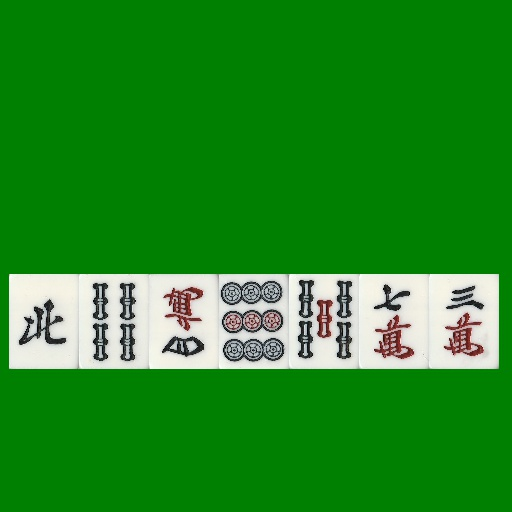3m: (429, 274, 499, 369)
4m: (149, 274, 219, 369)
4s: (79, 274, 149, 369)
5s: (289, 274, 359, 369)
7m: (359, 274, 429, 369)
9p: (219, 274, 289, 369)
north: (9, 274, 79, 369)
